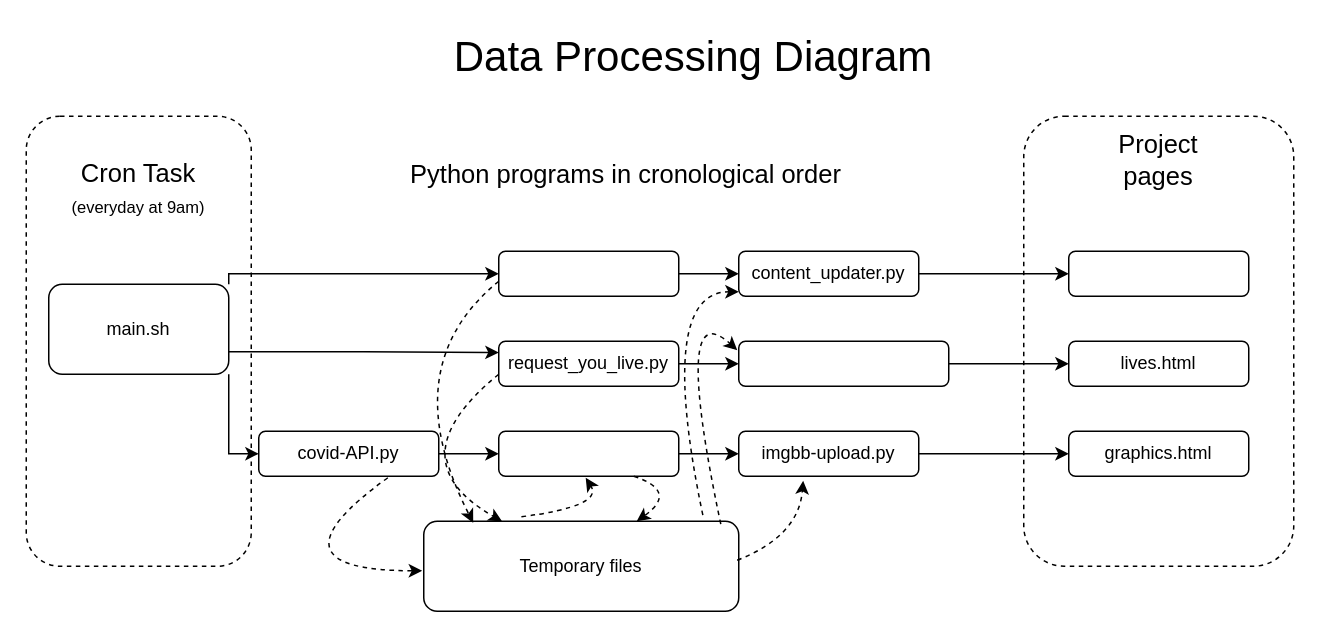
Some shapes in this 1320 by 638 pixel diagram are drawn without their labels. Each missing label, with the box of its shape:
content_updater_live.py: (737, 340, 949, 386)
covid-API-graph.py: (497, 430, 679, 476)
request_you.py: (497, 250, 679, 296)
videos.html: (1067, 250, 1249, 296)
